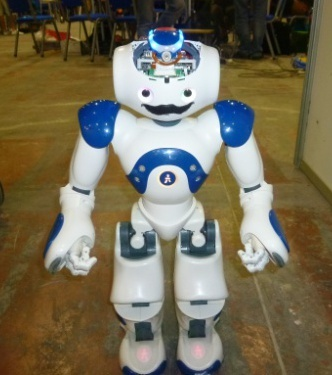nao: (33, 19, 303, 368)
